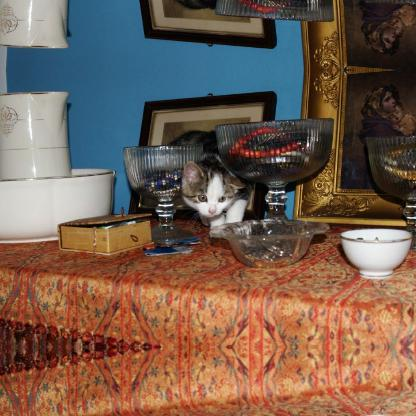Cat: (167, 126, 258, 236)
